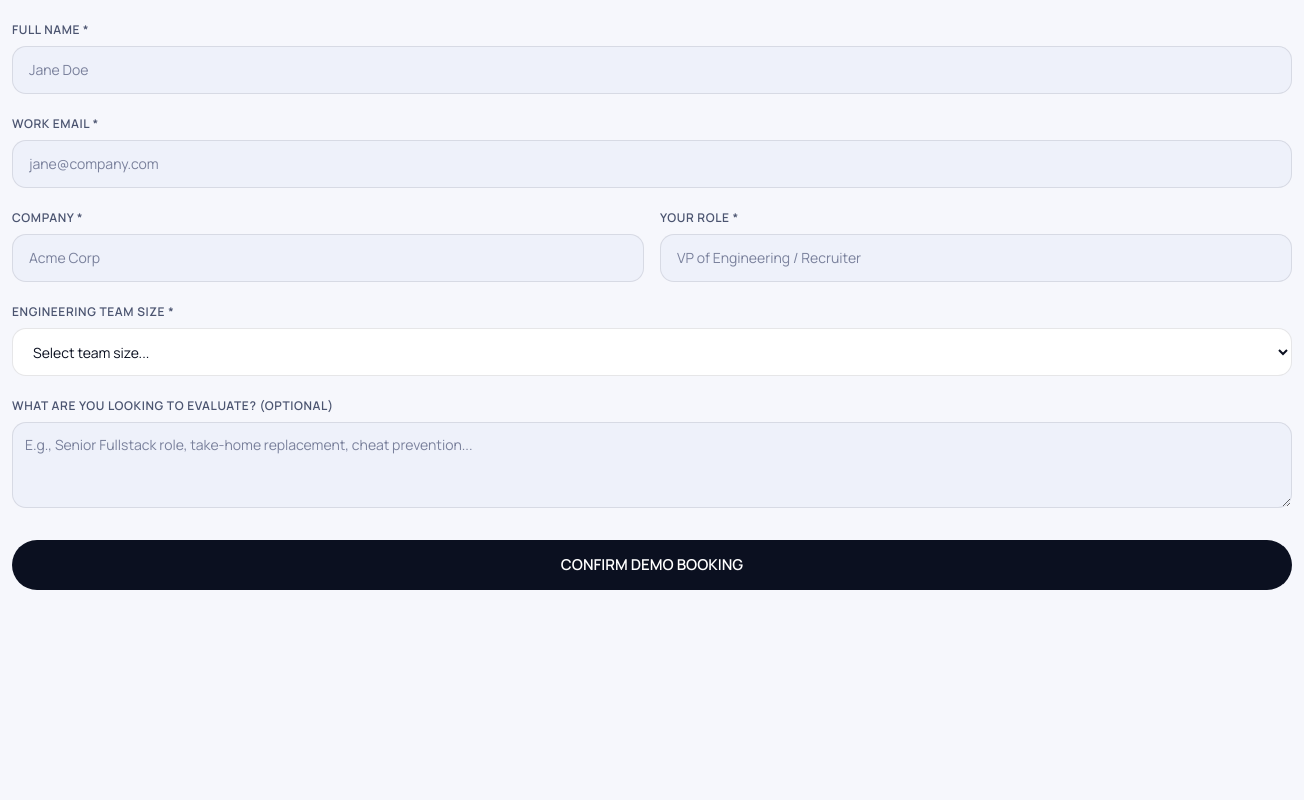
DetailsForm Component › validates required fields on empty submit
The image size is (1304, 800).
Click the button "CONFIRM DEMO BOOKING" at (652, 565), box [12, 540, 1292, 590]
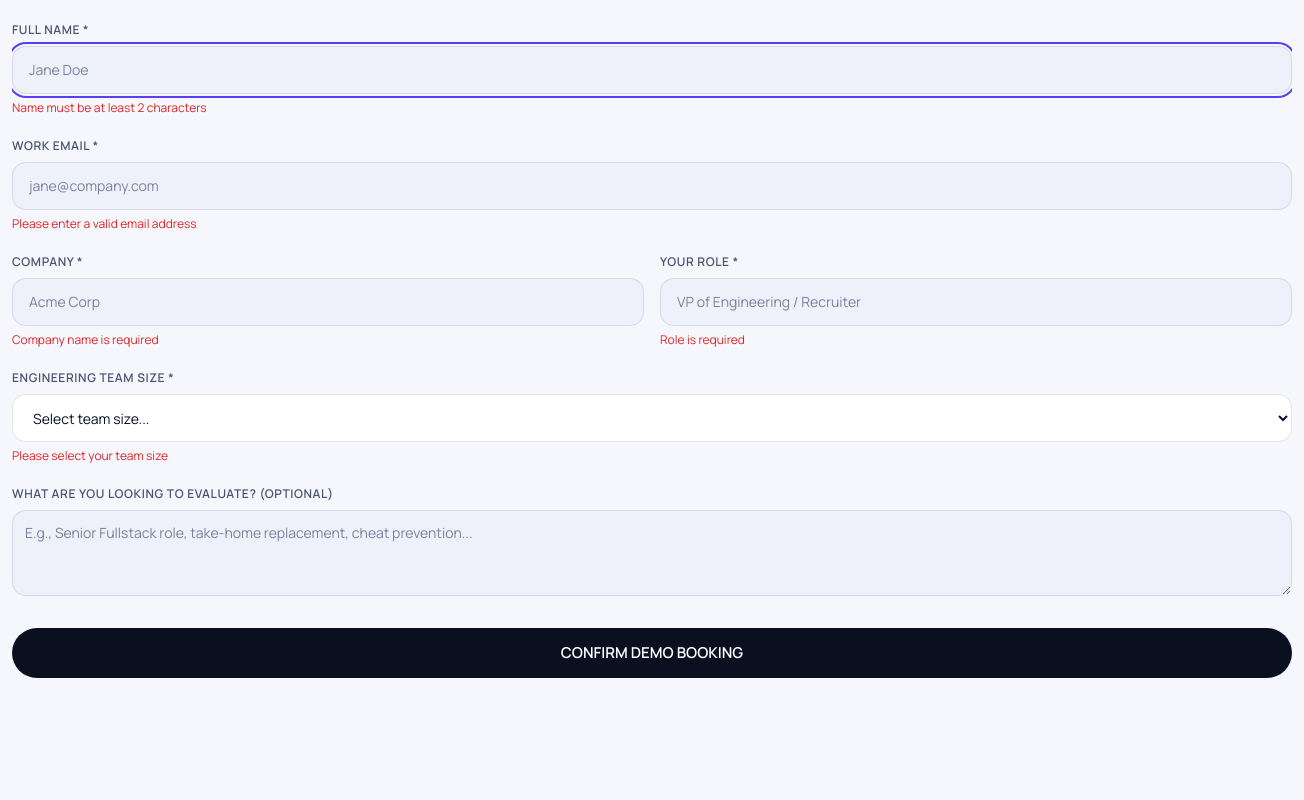
Result: the text "Name must be at least 2 characters" is shown at [12, 99, 206, 116]
Result: the text "Please enter a valid email address" is shown at [12, 215, 197, 232]
